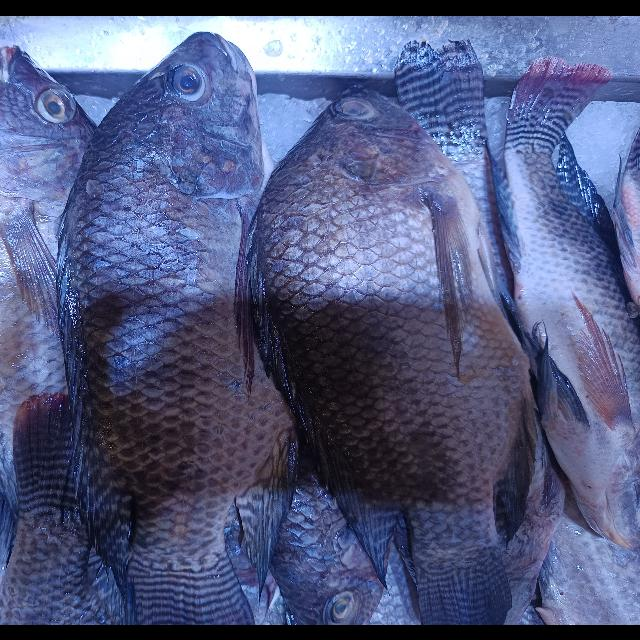Tilapia: (244, 80, 536, 624), (57, 30, 267, 624), (488, 56, 640, 546)
